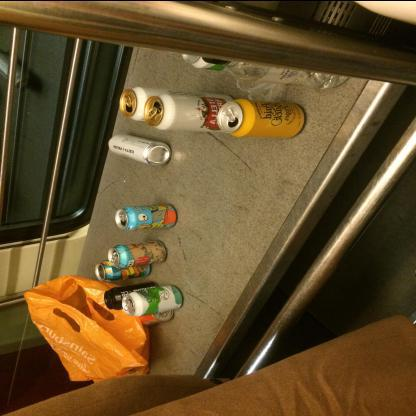metal: (145, 93, 236, 133), (218, 99, 308, 139), (121, 87, 190, 121), (109, 134, 172, 166), (123, 285, 185, 317), (109, 240, 169, 268), (116, 204, 178, 231), (105, 282, 159, 310), (96, 260, 152, 282), (183, 53, 229, 71), (140, 308, 174, 326)
plastik: (25, 275, 152, 382), (201, 52, 351, 90)
